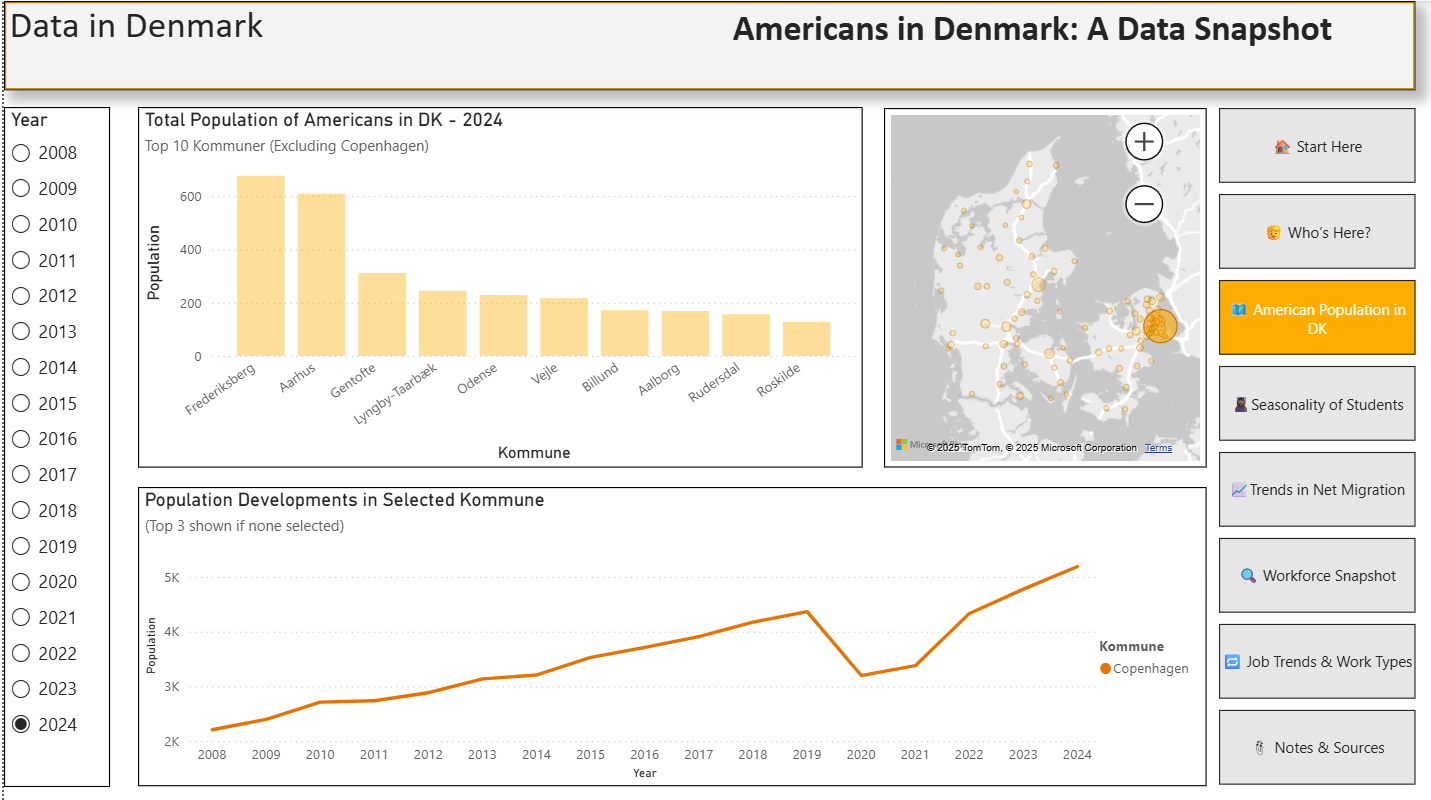

What the dashboard file says about the page in this screenshot:
{"tool":"powerbi","page":{"name":"🗺️ American Population in DK","canvas":[1280,720],"ordinal":2},"visuals":[{"type":"shape","box":[0,0,1264,80],"z":0,"group":"g1"},{"type":"map","fields":{"Category":["Dim_Kommune_Region_Danish.Kommune"],"Size":["Sum(fact_population_locations_yearly.Population)"]},"box":[787.8,95.9,289.2,321.6],"z":0},{"type":"clusteredColumnChart","fields":{"Category":["Dim_Kommune.Kommune"],"Y":["Sum(fact_population_locations_yearly.Population)"]},"box":[120.3,94.6,648.6,323],"z":1000},{"type":"group","id":"g1","title":"Group 3","box":[0,0,1264,80],"z":2000},{"type":"listSlicer","fields":{"Values":["Dim_Year.Year"]},"box":[0,95,95,608.8],"z":3000},{"type":"textbox","title":"Data in Denmark","box":[0,0,265,80],"z":4000,"group":"g2"},{"type":"lineChart","title":"Population Developments in Selected Kommune","fields":{"Category":["fact_population_locations_yearly.Year"],"Y":["Dim_AgeGroup.Total Population of Kommuner (All Years)"],"Series":["fact_population_locations_yearly.Kommune"]},"box":[120.3,435.1,956.8,267.6],"z":4000},{"type":"textbox","box":[640,0,623.8,80],"z":5000,"group":"g2"},{"type":"pageNavigator","box":[1088,96,176,608],"z":5000},{"type":"group","id":"g2","title":"Group 4","box":[0,0,1263.8,80],"z":5002,"group":"g1"}]}

Visuals, with their boxes in screenshot pixels (x1, y1, x2, y2), scaled from the page's 1280x720 canvas onto the 1431x800 screenshot:
shape: 0:0:1413:89
map - Dim_Kommune_Region_Danish.Kommune x Sum(fact_population_locations_yearly.Population): 881:107:1204:464
clusteredColumnChart - Dim_Kommune.Kommune x Sum(fact_population_locations_yearly.Population): 134:105:860:464
"Group 3" group: 0:0:1413:89
listSlicer - Dim_Year.Year: 0:106:106:782
"Data in Denmark" textbox: 0:0:296:89
"Population Developments in Selected Kommune" lineChart: 134:483:1204:781
textbox: 716:0:1413:89
pageNavigator: 1216:107:1413:782
"Group 4" group: 0:0:1413:89
